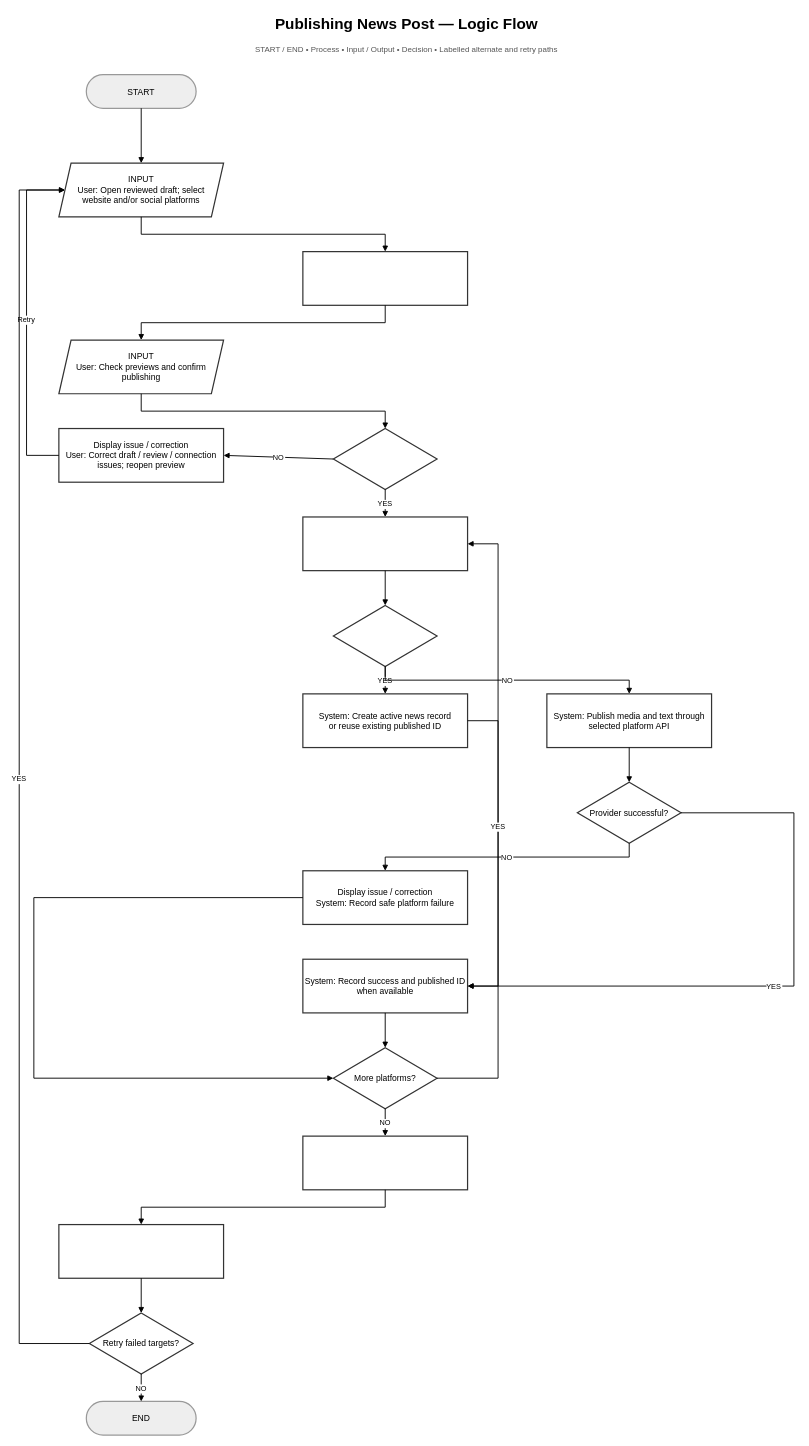
Image size: 809x1446. Some labels were removed from this diagram. Each missing label, with the centre of its shape:
"Publication checks pass?" goes at (384,459).
"System: Merge per-platform publication results" goes at (385,1162).
"System: Prepare platform previews and identify publishing issues" goes at (385,278).
"System: Select next requested platform" goes at (385,543).
"User: View success / partial failure results" goes at (141,1251).
"Website target?" goes at (384,636).
